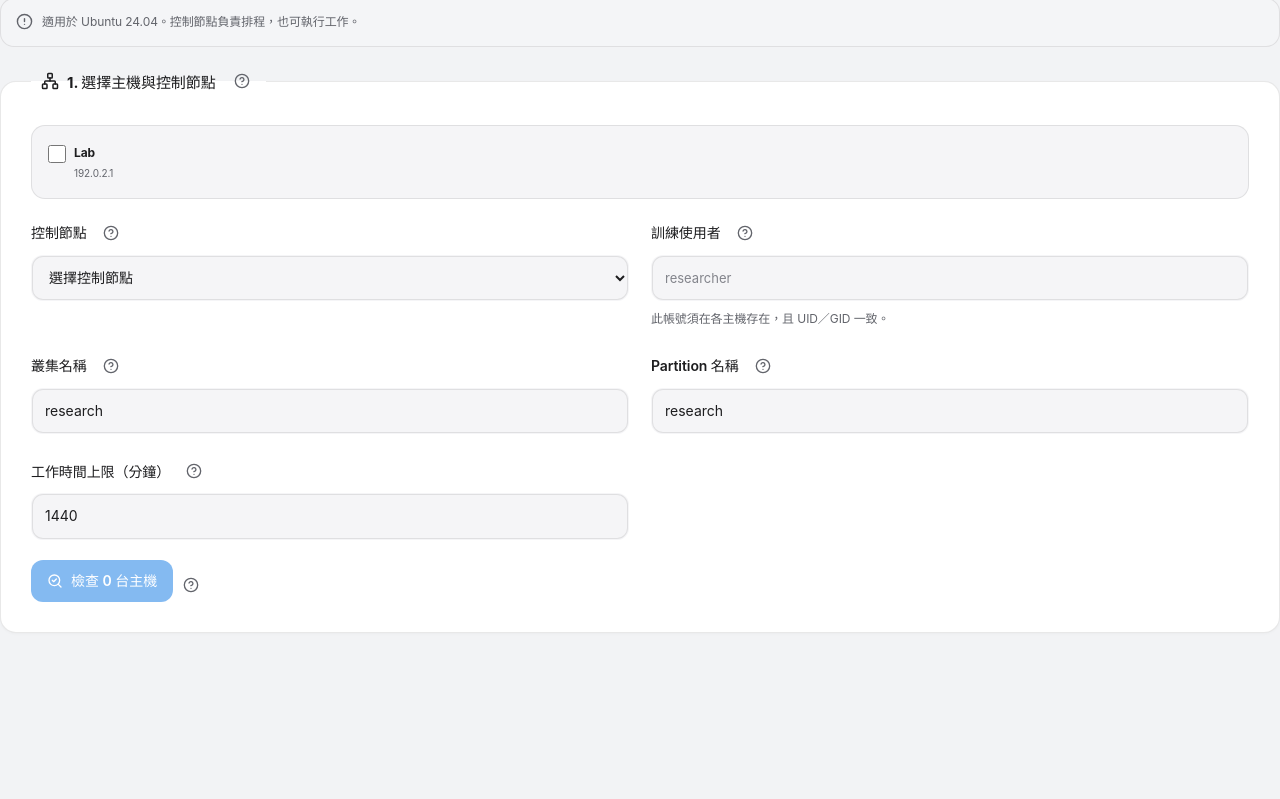
it: keeps apply disabled for existing Slurm hosts
This screenshot has width=1280, height=799.
Click the checkbox labelled "Lab 192.0.2.1". click: click(57, 154)
box: [48,145,66,163]
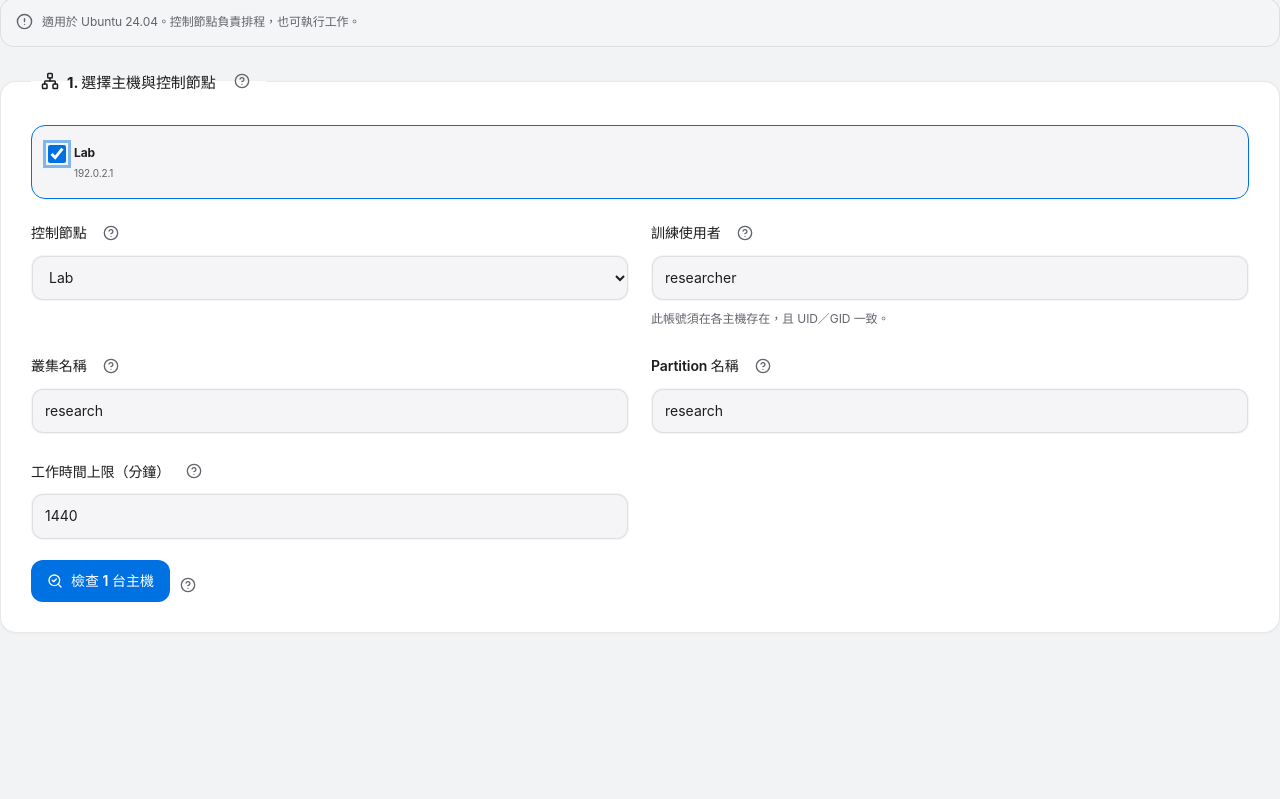
Click the button "檢查 1 台主機". click: click(100, 581)
box: [31,560,170,602]
(page scrolled)
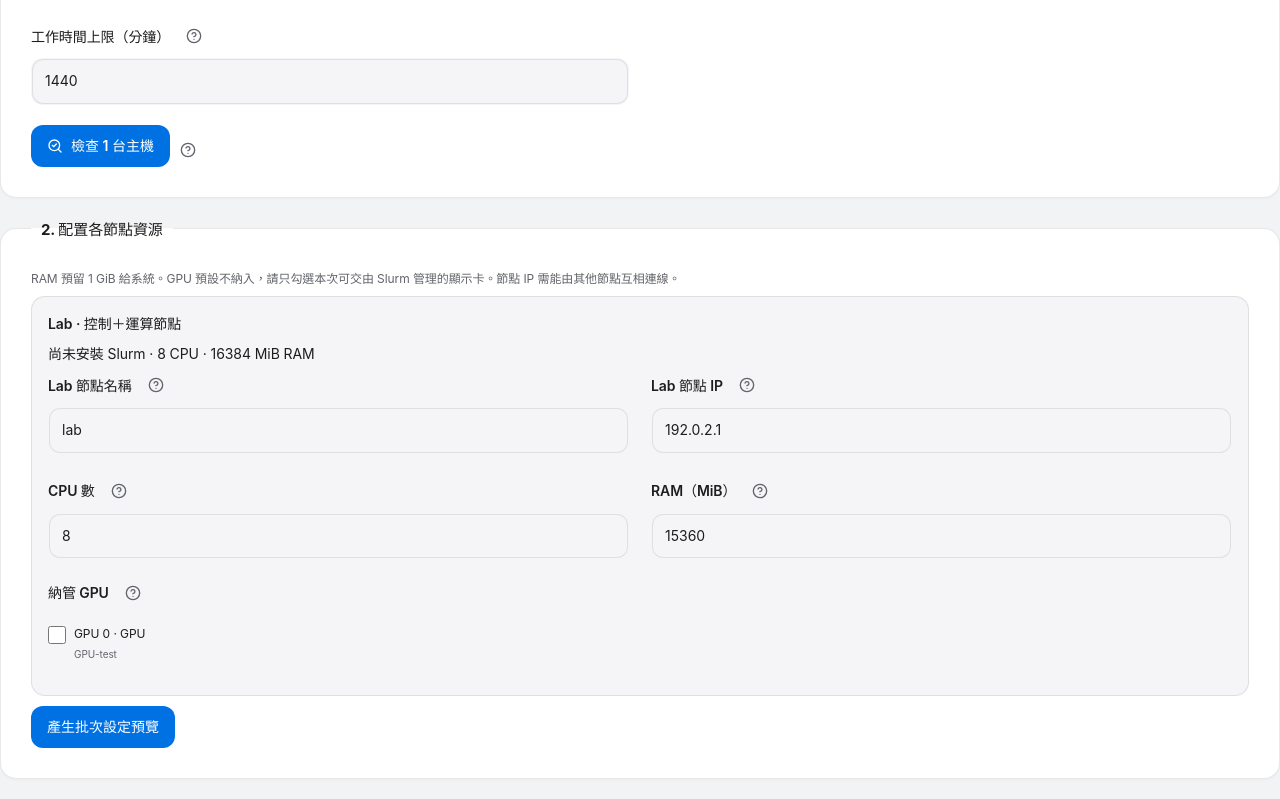
Check: the checkbox labelled "GPU 0 · GPU GPU-test" is shown, box [48,626,66,644]
Click the button "產生批次設定預覽". click: click(103, 726)
box: [31,706,175,748]
(page scrolled)
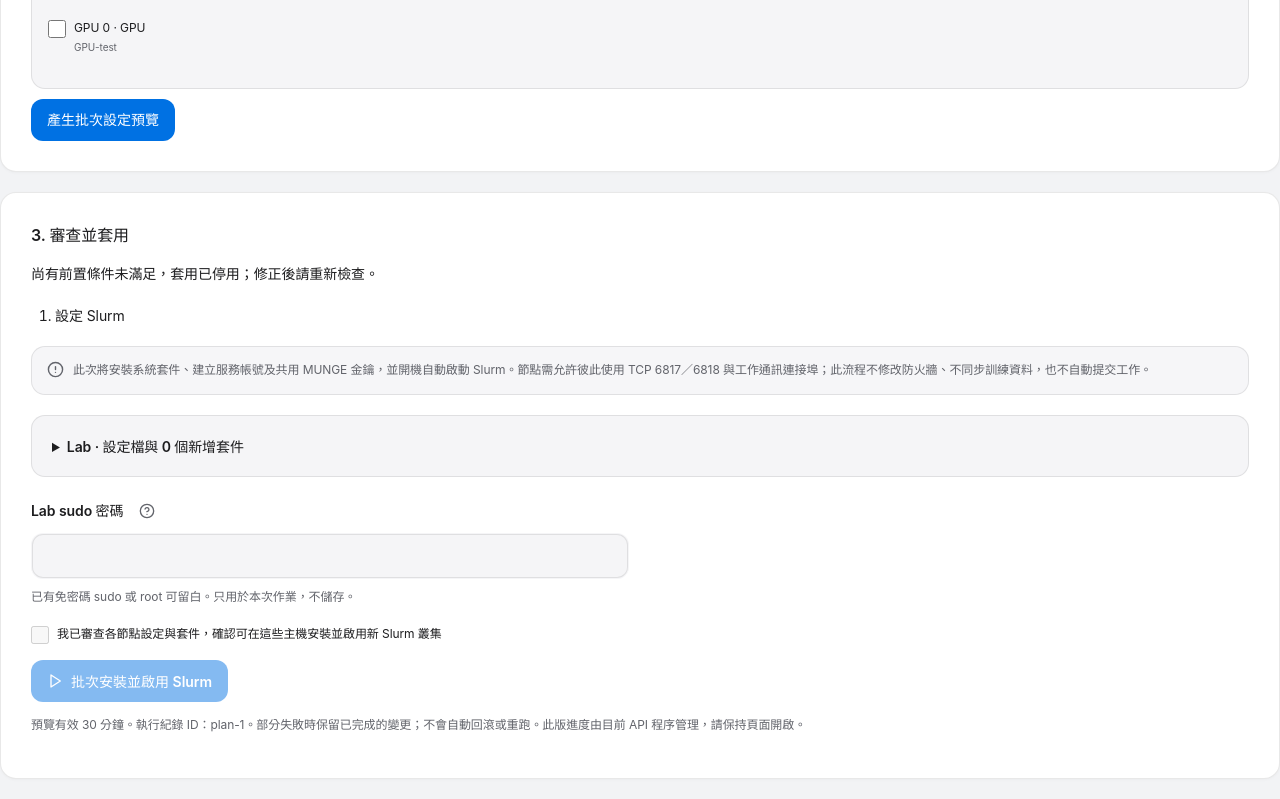
Check: the button "批次安裝並啟用 Slurm" is disabled, box [31,660,228,702]
Check: the checkbox labelled "我已審查各節點設定與套件，確認可在這些主機安裝並啟用新 Slurm 叢集" is disabled, box [31,626,49,644]
